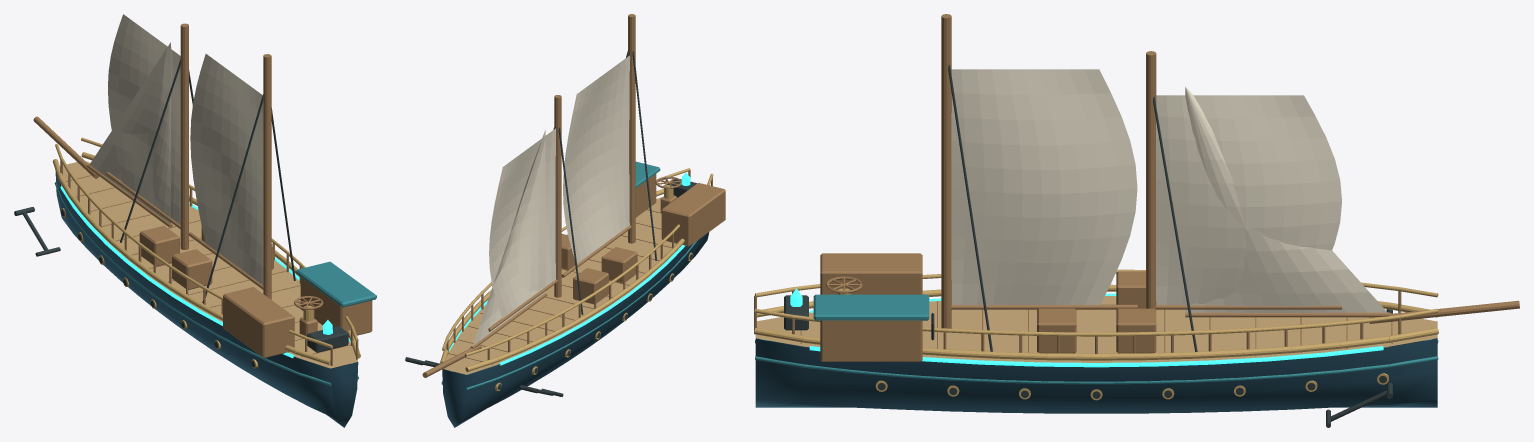
Rendered from ship_schooner.glb.
The picture shows the model from 3 angles, left to right: view 1: azimuth 30°, elevation 25°; view 2: azimuth 150°, elevation 25°; view 3: azimuth 270°, elevation 25°; orthographic projection. The views are drawn at different scales.
Parts seen in each view (by area): view 1: ship_schooner; view 2: ship_schooner; view 3: ship_schooner.
Boxes of the visible parts, x1,y1,x2,y2 form: ship_schooner: [14, 14, 376, 427]; ship_schooner: [405, 14, 725, 427]; ship_schooner: [754, 14, 1519, 427].
Bounding box in the file's own units: 3.86 × 7.6 × 13.47.
